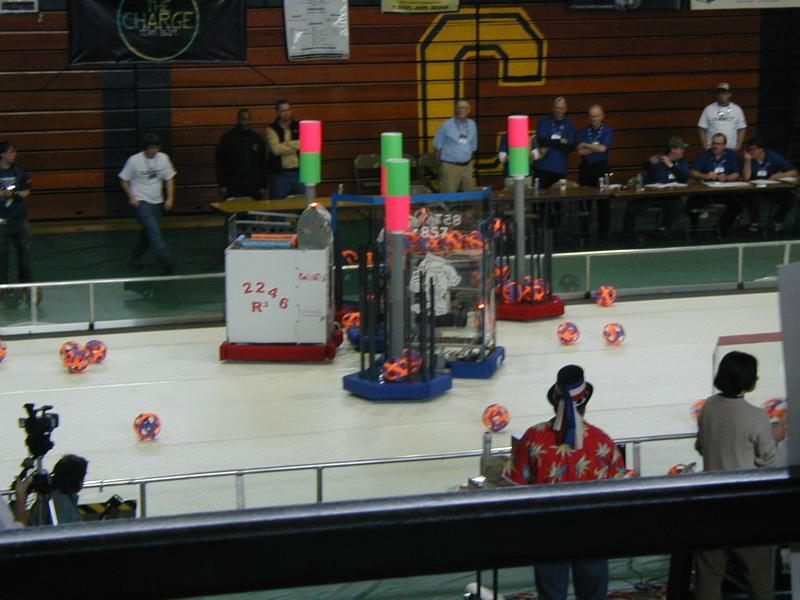robot: (221, 223, 337, 368), (401, 240, 504, 377)
